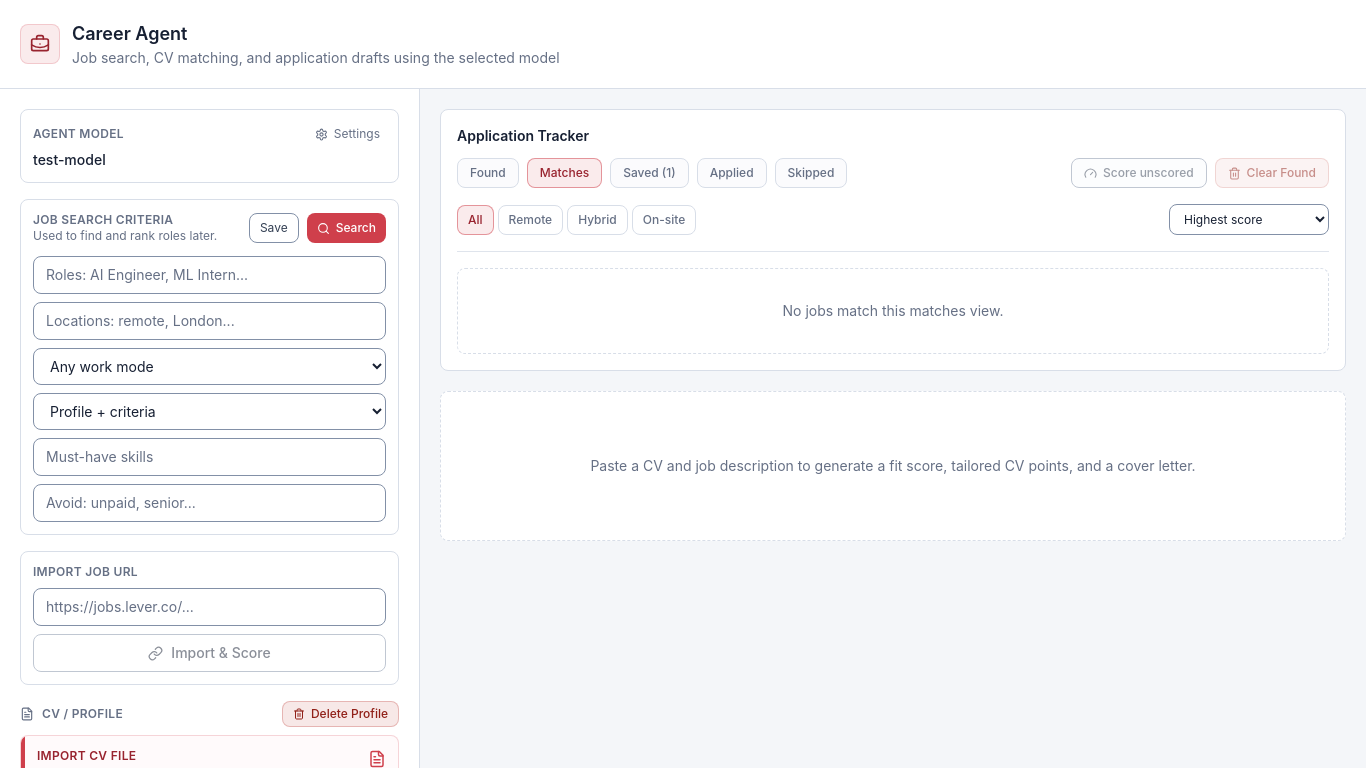
CareerPage tracker behavior › keeps a low-scoring manually saved job visible in Saved
This screenshot has width=1366, height=768.
Click the button "Saved (1)". click: x=649, y=173
box: [610,158,689,188]
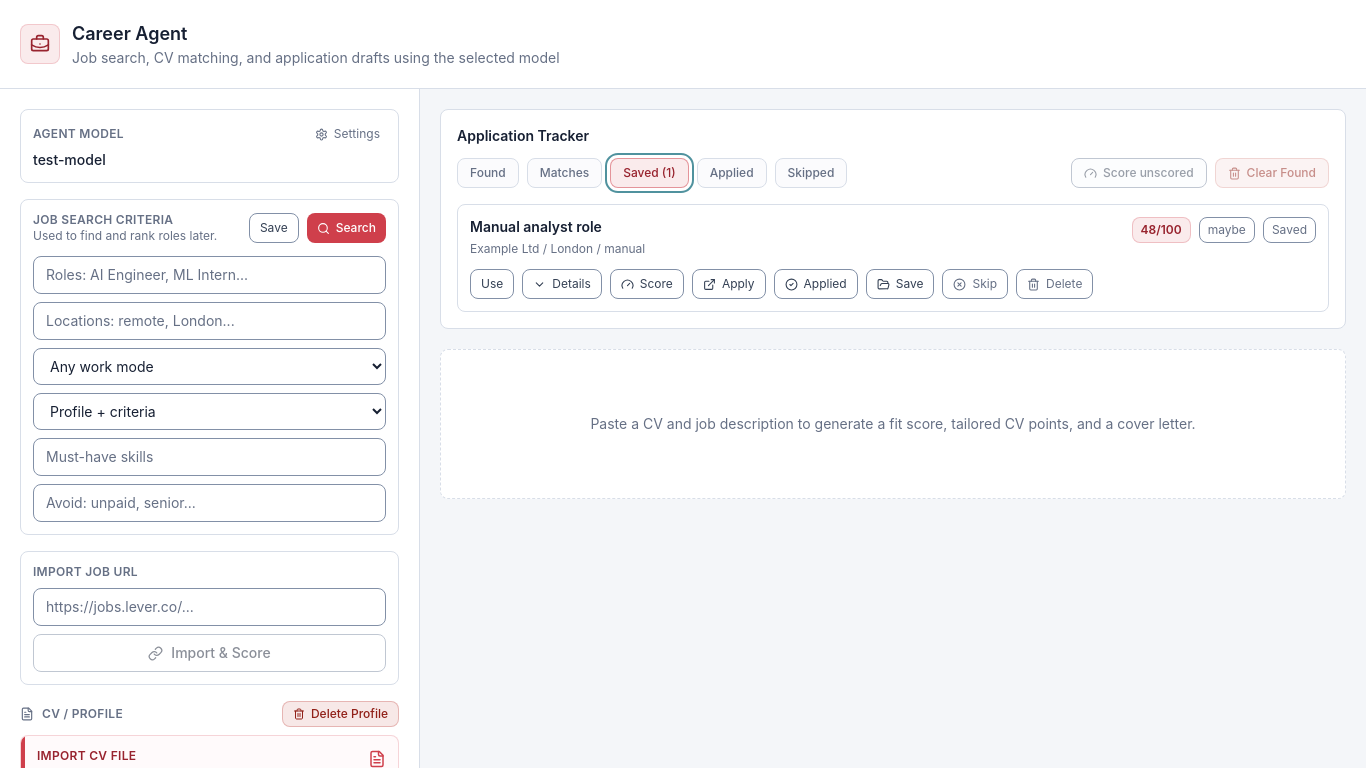
Now the text "Manual analyst role" is shown, box [470,218,602,235]
Now the text "48/100" is shown, box [1132,217,1191,243]
Now the text "Saved" is shown, box [1263,217,1316,243]
